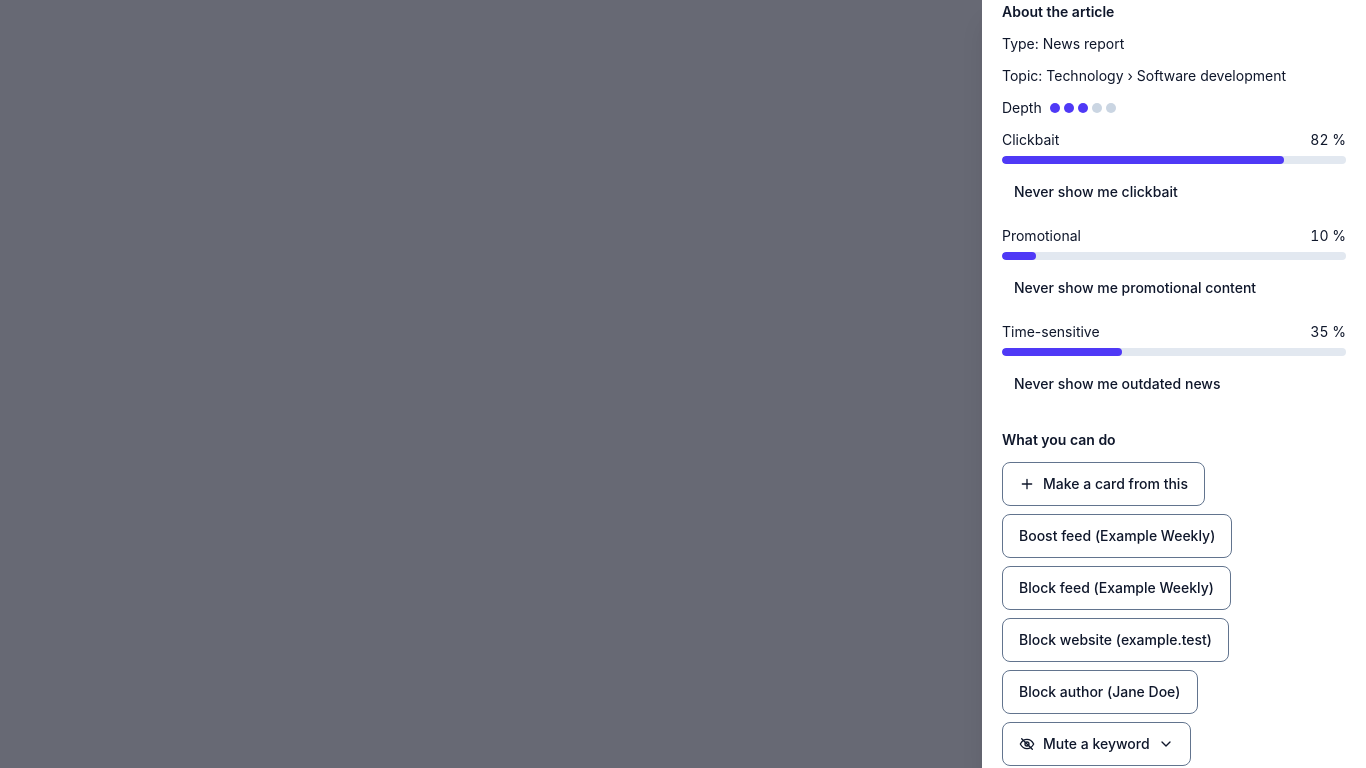
Test: "Never show me …" › for time-sensitive switches demote.stale on
(page scrolled)
Click the button "Never show me outdated news" at [1117, 384], box [1002, 362, 1232, 406]
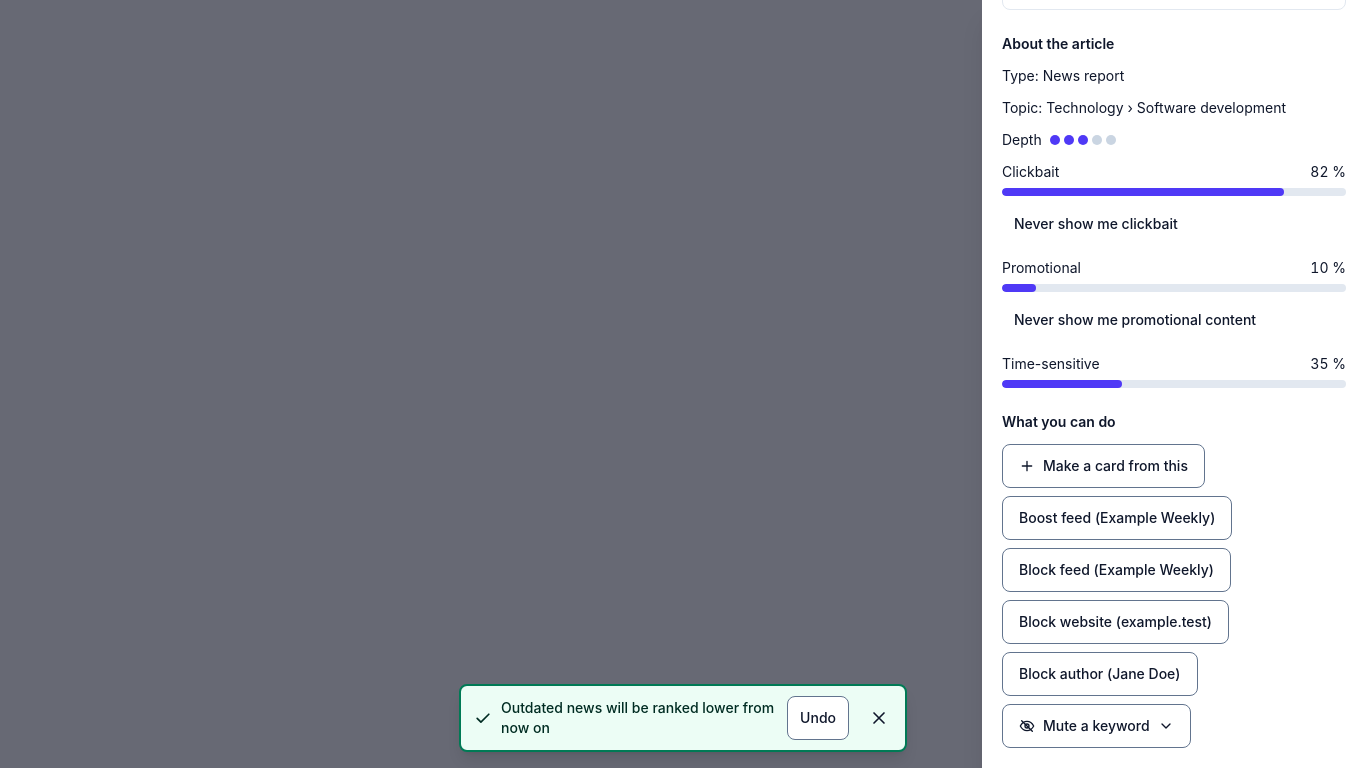
Result: the text "Outdated news will be ranked lower from now on" is shown at [459, 684, 907, 752]
Result: the button "Never show me outdated news" is gone
